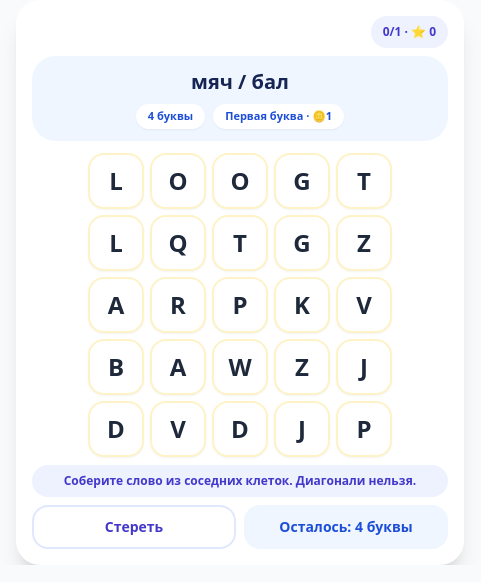
Test case: Snake first-letter hint economy › reveals the hint only after a successful one-coin charge
Click the button "Первая буква · 🪙1" at (279, 116), box top-left (213, 104), bottom-right (344, 128)
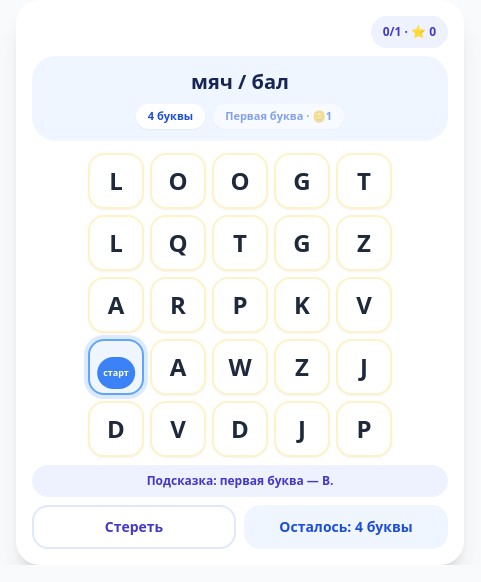
Now the text "Подсказка: первая буква — B." is shown, box top-left (32, 464), bottom-right (448, 496)
Now the button "Первая буква · 🪙1" is disabled, box top-left (213, 104), bottom-right (344, 128)
